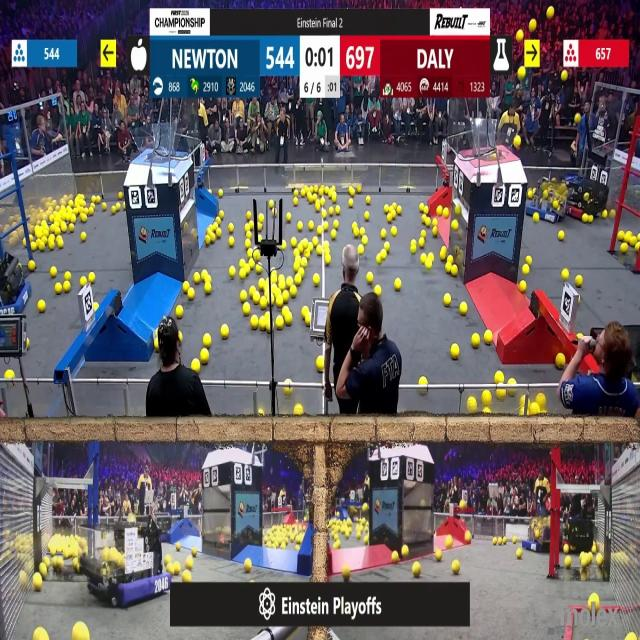ball_airborne: (529, 20, 537, 32), (524, 56, 532, 67), (519, 67, 526, 79), (515, 136, 522, 148), (546, 7, 553, 18), (517, 31, 524, 42), (574, 113, 580, 123), (562, 71, 568, 81), (502, 112, 508, 122), (460, 499, 466, 509)
ball_ground: (73, 624, 88, 640), (34, 576, 43, 592), (467, 397, 476, 412), (316, 356, 324, 372), (414, 562, 422, 577), (242, 559, 250, 574), (34, 630, 46, 640), (201, 349, 210, 362), (220, 324, 228, 338), (485, 332, 493, 346), (471, 335, 479, 349), (343, 564, 351, 578), (557, 354, 565, 368), (452, 560, 460, 574), (182, 570, 191, 582), (536, 394, 545, 406), (276, 317, 284, 330), (293, 406, 302, 417), (452, 345, 459, 359), (191, 359, 199, 371), (204, 336, 212, 348), (484, 392, 492, 404), (284, 314, 292, 326), (259, 299, 267, 311), (252, 290, 260, 302), (292, 264, 300, 276), (176, 306, 183, 319), (251, 316, 258, 329), (401, 544, 408, 557), (495, 372, 503, 383), (56, 283, 64, 294), (498, 389, 506, 400), (454, 205, 462, 216), (252, 250, 260, 261), (394, 279, 401, 291), (575, 275, 582, 287), (38, 301, 45, 313), (243, 304, 250, 316), (445, 293, 452, 305), (460, 304, 467, 316), (187, 288, 194, 300), (258, 318, 265, 330), (266, 320, 273, 332), (28, 262, 36, 272), (445, 264, 453, 274), (282, 307, 290, 317), (297, 240, 305, 250), (562, 270, 569, 281), (64, 282, 71, 293), (446, 536, 453, 547), (205, 283, 212, 294), (73, 559, 80, 570), (366, 273, 372, 285), (520, 281, 526, 293), (392, 552, 398, 564), (186, 558, 192, 570), (314, 274, 320, 286), (241, 290, 247, 302), (272, 272, 278, 284), (283, 289, 289, 301), (596, 554, 602, 566), (40, 564, 46, 576), (168, 563, 174, 575), (375, 285, 382, 295), (420, 377, 427, 387), (523, 266, 530, 276), (49, 268, 56, 278), (240, 270, 247, 280), (564, 557, 571, 567), (276, 296, 283, 306), (202, 272, 209, 282), (316, 222, 323, 232), (625, 233, 632, 243), (435, 551, 441, 562), (90, 273, 96, 284), (193, 273, 199, 284), (452, 266, 458, 277), (290, 286, 296, 297), (306, 315, 312, 326), (536, 215, 544, 223), (244, 240, 252, 248), (6, 369, 13, 378), (420, 253, 427, 262), (435, 207, 442, 216), (302, 258, 309, 267), (47, 241, 54, 250), (209, 235, 216, 244), (271, 285, 278, 294), (558, 232, 564, 242), (444, 208, 450, 218), (294, 276, 300, 286), (330, 231, 336, 241), (309, 220, 315, 230), (258, 280, 264, 290), (465, 532, 471, 542), (227, 222, 233, 232), (324, 254, 330, 264), (240, 258, 246, 268), (381, 230, 387, 240), (441, 250, 447, 260), (602, 210, 608, 220), (231, 268, 237, 278), (330, 192, 336, 202), (622, 244, 628, 254), (247, 249, 253, 259), (286, 277, 292, 287), (315, 202, 321, 212), (31, 242, 37, 252), (216, 230, 222, 240), (619, 232, 625, 242), (248, 258, 254, 268), (308, 192, 314, 202), (294, 256, 300, 266), (62, 223, 69, 231), (510, 379, 518, 386), (591, 594, 598, 602), (396, 207, 403, 215), (420, 215, 428, 222), (59, 238, 64, 249), (589, 600, 594, 611), (452, 220, 458, 229), (420, 239, 426, 248), (316, 246, 322, 255), (291, 239, 297, 248), (255, 266, 261, 275), (517, 550, 523, 559), (412, 245, 418, 254), (227, 238, 233, 247), (526, 255, 532, 264), (426, 262, 432, 271), (292, 199, 298, 208), (361, 237, 367, 246), (256, 235, 262, 244), (260, 215, 266, 224), (584, 214, 590, 223), (245, 212, 251, 221), (323, 240, 329, 249), (427, 252, 433, 261), (362, 502, 368, 511), (166, 555, 172, 564), (80, 233, 85, 243), (358, 245, 363, 255), (391, 228, 396, 238), (153, 340, 158, 350), (257, 411, 264, 418), (284, 388, 291, 395), (65, 273, 71, 281), (377, 254, 383, 262), (305, 249, 311, 257), (448, 255, 454, 263), (321, 210, 327, 218), (363, 212, 369, 220), (286, 213, 292, 221), (90, 207, 96, 215), (270, 201, 276, 209), (335, 220, 341, 228), (420, 231, 426, 239), (69, 223, 75, 231), (246, 232, 252, 240), (102, 204, 108, 212), (492, 536, 498, 544), (628, 634, 636, 640), (365, 198, 371, 206), (293, 248, 299, 256), (609, 210, 615, 218), (527, 189, 533, 197), (80, 277, 85, 286), (297, 221, 302, 230), (183, 281, 188, 290), (282, 241, 287, 250), (385, 242, 390, 251), (420, 204, 425, 213), (178, 333, 183, 342), (635, 243, 640, 252), (39, 243, 44, 252), (249, 221, 254, 230), (304, 307, 309, 316), (313, 238, 319, 245), (80, 215, 86, 222), (117, 191, 123, 198), (484, 409, 491, 415), (70, 215, 76, 222), (501, 536, 507, 543), (23, 240, 29, 247), (564, 544, 569, 552), (176, 541, 181, 549), (349, 200, 354, 208), (387, 214, 392, 222), (219, 210, 224, 218), (257, 222, 262, 230), (596, 600, 600, 610), (116, 204, 121, 212), (336, 540, 341, 548), (93, 194, 98, 202), (320, 199, 325, 207), (354, 230, 358, 239), (337, 207, 341, 216), (364, 535, 368, 544), (286, 380, 292, 386), (218, 189, 223, 196), (359, 227, 364, 234), (328, 208, 333, 215), (353, 221, 358, 228), (324, 222, 328, 230), (432, 218, 436, 226), (426, 218, 430, 226), (384, 205, 388, 213), (432, 229, 436, 237), (192, 549, 196, 557), (357, 535, 361, 543), (112, 207, 116, 214), (216, 217, 220, 224), (514, 536, 518, 542), (27, 340, 30, 348), (576, 335, 580, 341), (250, 578, 254, 584), (295, 544, 299, 550)
goal: (465, 122, 522, 160), (130, 130, 189, 160)
robot_blue: (87, 519, 171, 608), (527, 178, 567, 224), (0, 256, 30, 315), (521, 514, 552, 551), (154, 514, 182, 542)
robot_red: (563, 168, 592, 219)
